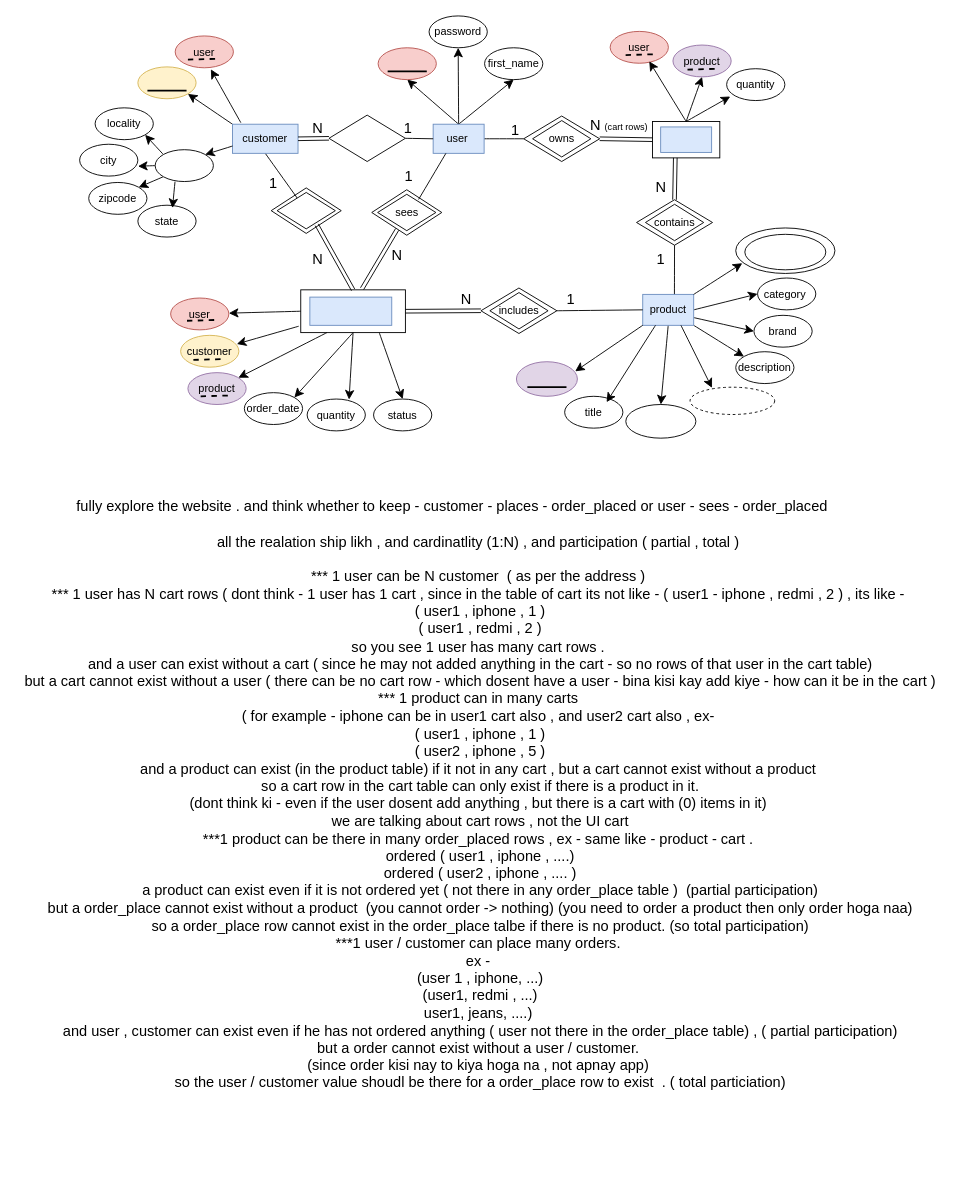
Some shapes in this 958 by 1200 pixel diagram are drawn without their labels. Each missing label, with the box of its shape:
address: (154, 149, 213, 182)
cart: (660, 126, 712, 152)
discount_price: (689, 386, 775, 415)
has profile: (328, 114, 405, 162)
name: (137, 66, 196, 99)
order_placed: (309, 296, 392, 325)
places: (276, 192, 335, 229)
product_id: (516, 361, 577, 396)
product_image: (744, 233, 826, 270)
selling_price: (625, 404, 696, 438)
username: (377, 47, 436, 80)
